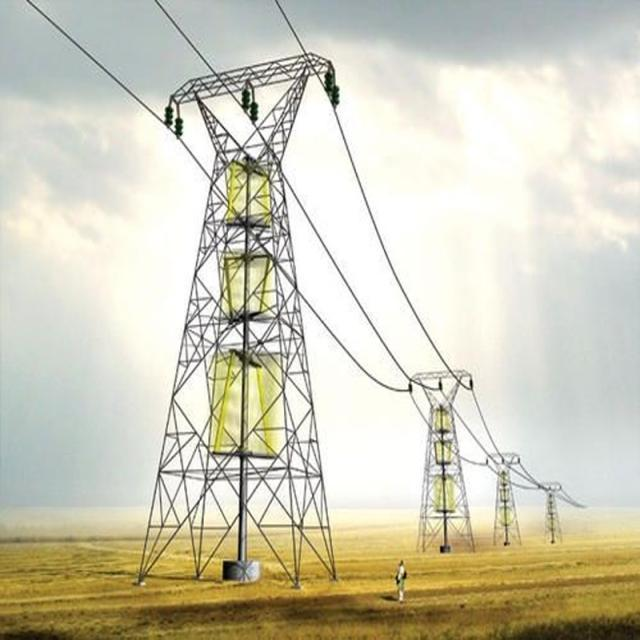non-critical vegetation: (121, 32, 349, 578), (394, 354, 482, 556), (482, 438, 528, 550), (532, 472, 567, 538)
